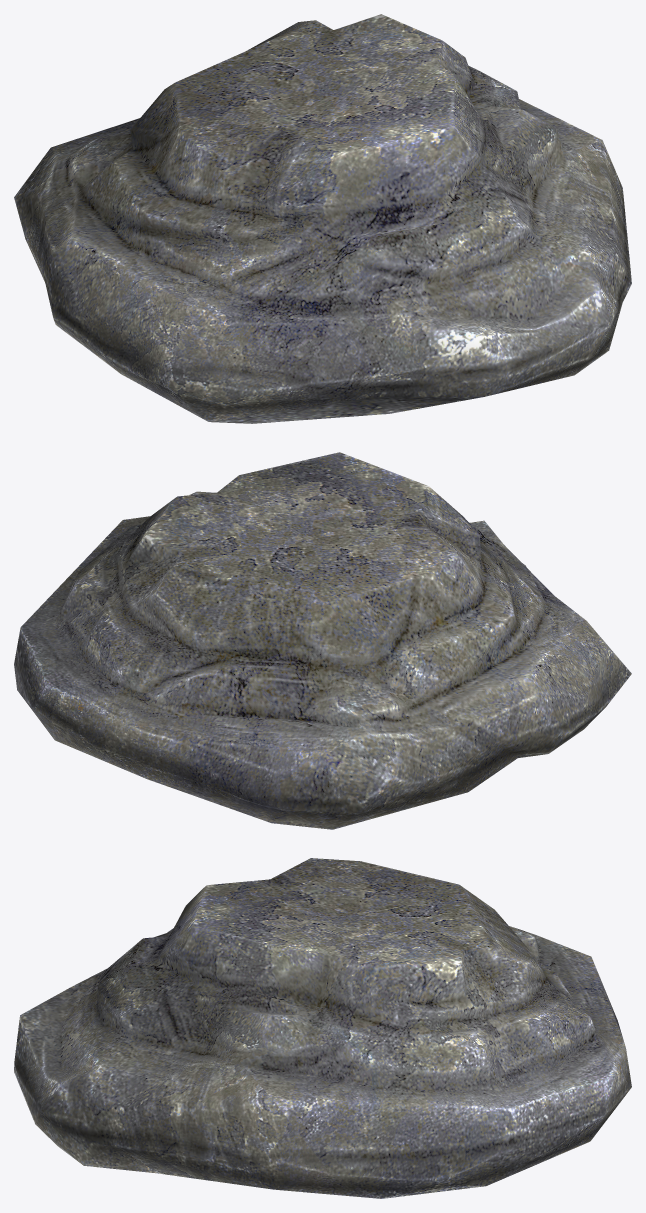
The model's file is RockSlate_1.FBX.
The picture shows the model from 3 angles, top to bottom: view 1: azimuth 30°, elevation 25°; view 2: azimuth 150°, elevation 25°; view 3: azimuth 270°, elevation 25°; orthographic projection. The views are drawn at different scales.
Visible parts, largest first — view 1: rrs; view 2: rrs; view 3: rrs.
Boxes of the visible parts, x1=… form: rrs: x1=14, y1=14, x2=631, y2=423; rrs: x1=14, y1=452, x2=631, y2=829; rrs: x1=14, y1=858, x2=631, y2=1198.
Bounding box in the file's own units: 510 × 206 × 530.
1 material, 1 textured.
